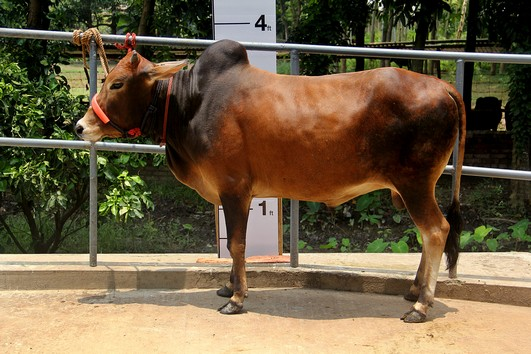cow: (71, 33, 469, 321)
